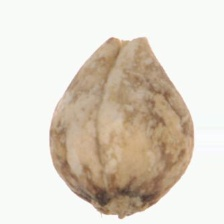L1: (97, 193, 151, 220), (107, 34, 150, 48)
L2: (48, 36, 195, 219)
